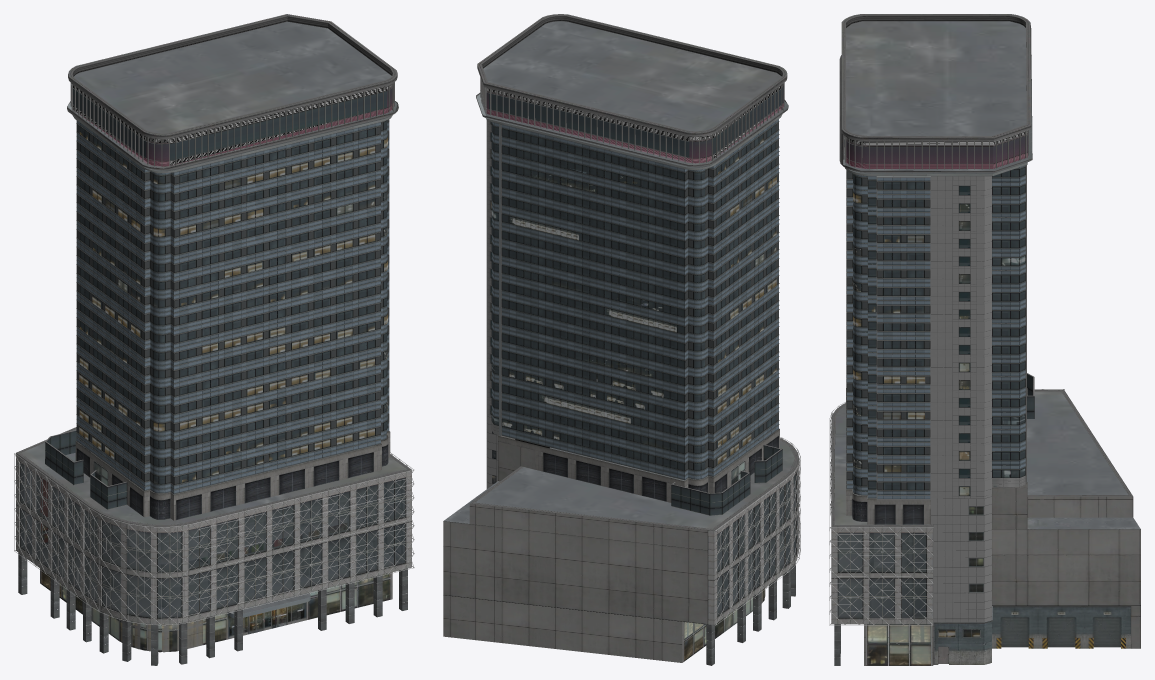
The model's file is deco_torre1.glb.
3 renders of one model, left to right at view 1: azimuth 30°, elevation 25°; view 2: azimuth 150°, elevation 25°; view 3: azimuth 270°, elevation 25°, orthographic. The views are drawn at different scales.
Parts seen in each view (by area): view 1: Cube.003_4, Cube.009_3, Cube.027_5, Cube.004_2, Cube.001_1, Cube.002_7, Cube.036_6; view 2: Cube.003_4, Cube.001_1, Cube.009_3, Cube.002_7, Cube.004_2, Cube.036_6, Cube.027_5; view 3: Cube.003_4, Cube.001_1, Cube.009_3, Cube.027_5, Cube.002_7, Cube.004_2.
Boxes of the visible parts, box(x1,y1,x2,y2) form: Cube.003_4: box(16, 14, 411, 665); Cube.009_3: box(20, 462, 405, 618); Cube.027_5: box(24, 468, 398, 616); Cube.004_2: box(14, 452, 414, 625); Cube.001_1: box(40, 431, 392, 652); Cube.002_7: box(41, 132, 389, 643); Cube.036_6: box(20, 464, 404, 618); Cube.003_4: box(444, 14, 798, 665); Cube.001_1: box(443, 429, 779, 662); Cube.009_3: box(717, 470, 797, 615); Cube.002_7: box(491, 139, 776, 659); Cube.004_2: box(715, 437, 800, 625); Cube.036_6: box(717, 476, 797, 615); Cube.027_5: box(515, 439, 783, 611); Cube.003_4: box(831, 14, 1140, 665); Cube.001_1: box(846, 388, 1140, 665); Cube.009_3: box(838, 533, 926, 618); Cube.027_5: box(838, 533, 925, 616); Cube.002_7: box(853, 193, 1025, 664); Cube.004_2: box(829, 389, 1064, 625).
Size of the model in its own units: 59.28 by 106 by 56.44.
7 materials, 6 textured.
